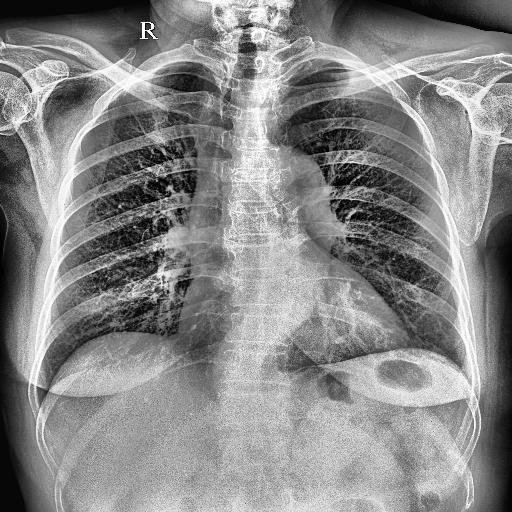0- Aortic enlargement: (181, 122, 349, 372), (214, 140, 344, 271)
13- Pulmonary fibrosis: (86, 252, 176, 330)
